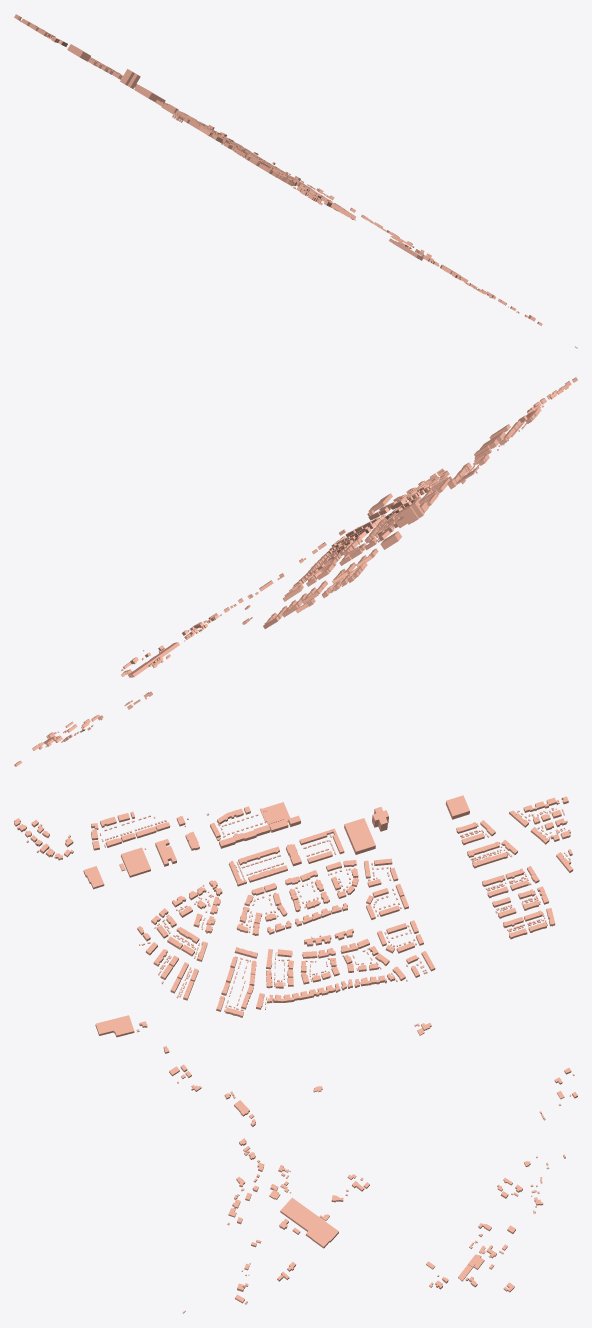
3 views of the same model, one above another, from view 1: azimuth 30°, elevation 25°; view 2: azimuth 150°, elevation 25°; view 3: azimuth 270°, elevation 25° (orthographic). The views are drawn at different scales.
Bounding box in the file's own units: 1020 × 762 × 1210.
